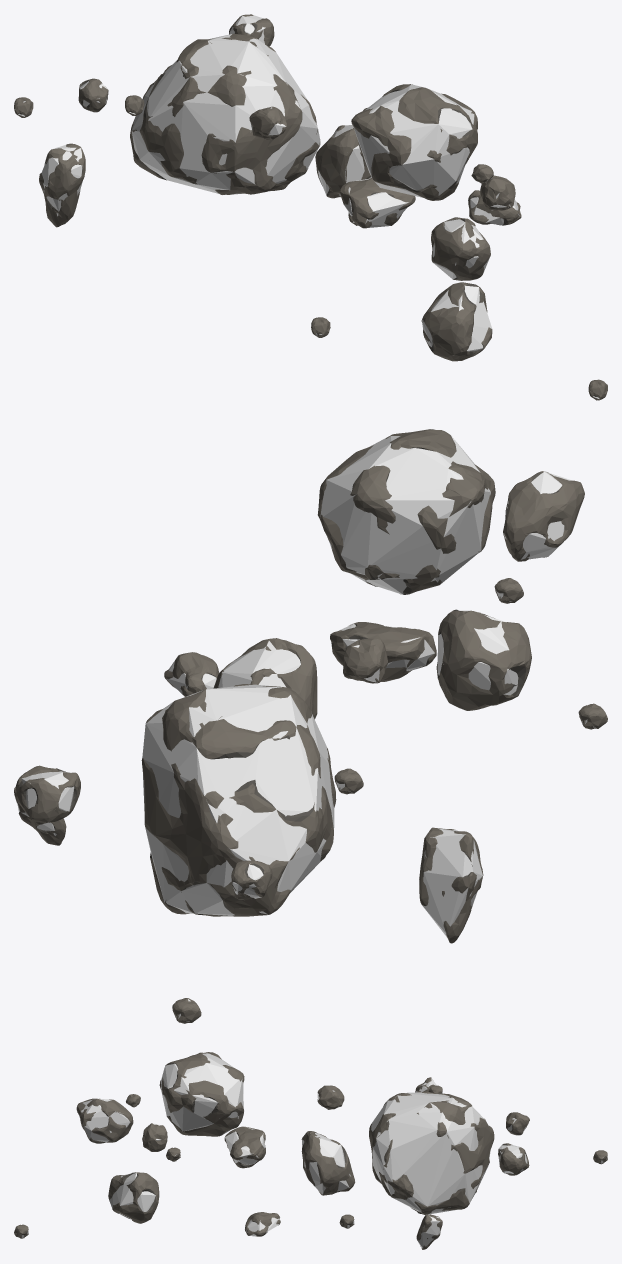
File: SM_Env_Asteroid_Field_01.fbx
The picture shows the model from 3 angles, top to bottom: view 1: azimuth 30°, elevation 25°; view 2: azimuth 150°, elevation 25°; view 3: azimuth 270°, elevation 25°; orthographic projection. The views are drawn at different scales.
Visible parts, largest first — view 1: SM_Env_Asteroid_Field_01_LOD0, SM_Env_Asteroid_Field_01_ConvexHulls; view 2: SM_Env_Asteroid_Field_01_LOD0, SM_Env_Asteroid_Field_01_ConvexHulls; view 3: SM_Env_Asteroid_Field_01_LOD0, SM_Env_Asteroid_Field_01_ConvexHulls.
Part boxes in pixels (x1,y1,x2,y2): SM_Env_Asteroid_Field_01_LOD0: [14, 14, 607, 400]; SM_Env_Asteroid_Field_01_ConvexHulls: [15, 15, 599, 399]; SM_Env_Asteroid_Field_01_LOD0: [14, 429, 607, 1023]; SM_Env_Asteroid_Field_01_ConvexHulls: [15, 429, 595, 1021]; SM_Env_Asteroid_Field_01_LOD0: [14, 1052, 607, 1249]; SM_Env_Asteroid_Field_01_ConvexHulls: [18, 1053, 607, 1248].
Size of the model in its own units: 11300 by 5542 by 3486.
1 material, 1 textured.
